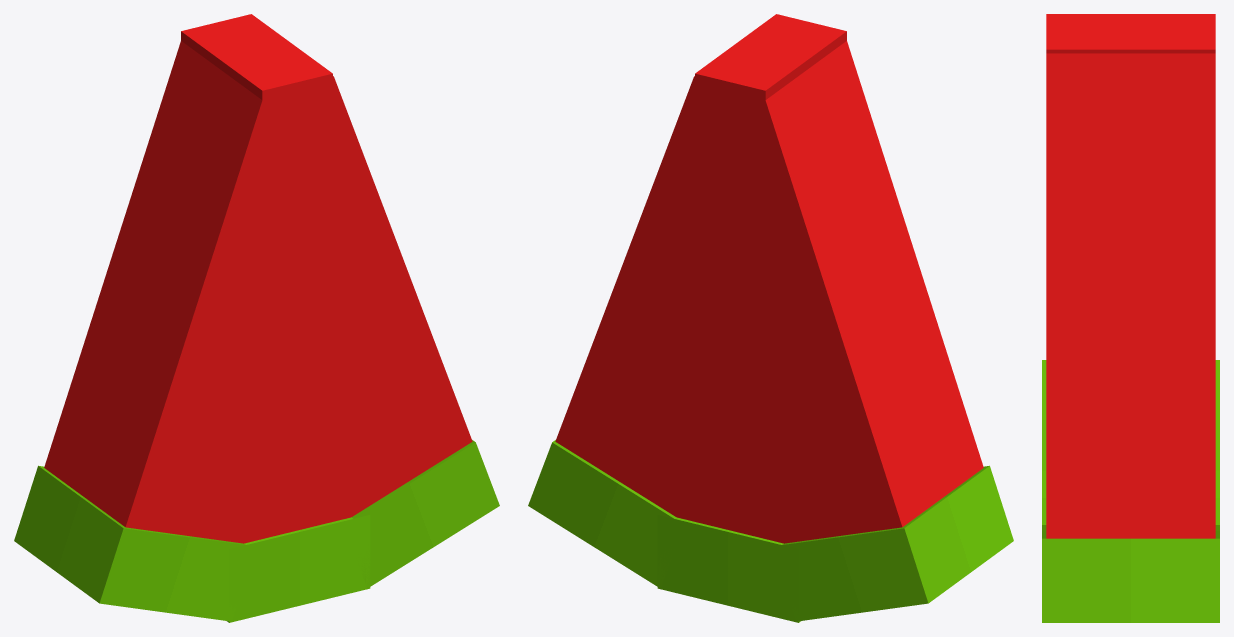
File: watermelonSlice.gltf
3 renders of one model, left to right at view 1: azimuth 30°, elevation 25°; view 2: azimuth 150°, elevation 25°; view 3: azimuth 270°, elevation 25°, orthographic. The views are drawn at different scales.
Visible parts, largest first — view 1: cube (×8); view 2: cube (×8); view 3: cube (×5).
Boxes of the visible parts, x1=… form: cube (×8): x1=14, y1=14, x2=499, y2=622; cube (×8): x1=528, y1=14, x2=1013, y2=622; cube (×5): x1=1042, y1=14, x2=1219, y2=622.
Bounding box in the file's own units: 0.355 × 0.4422 × 0.1312.
2 materials, 2 textured.
